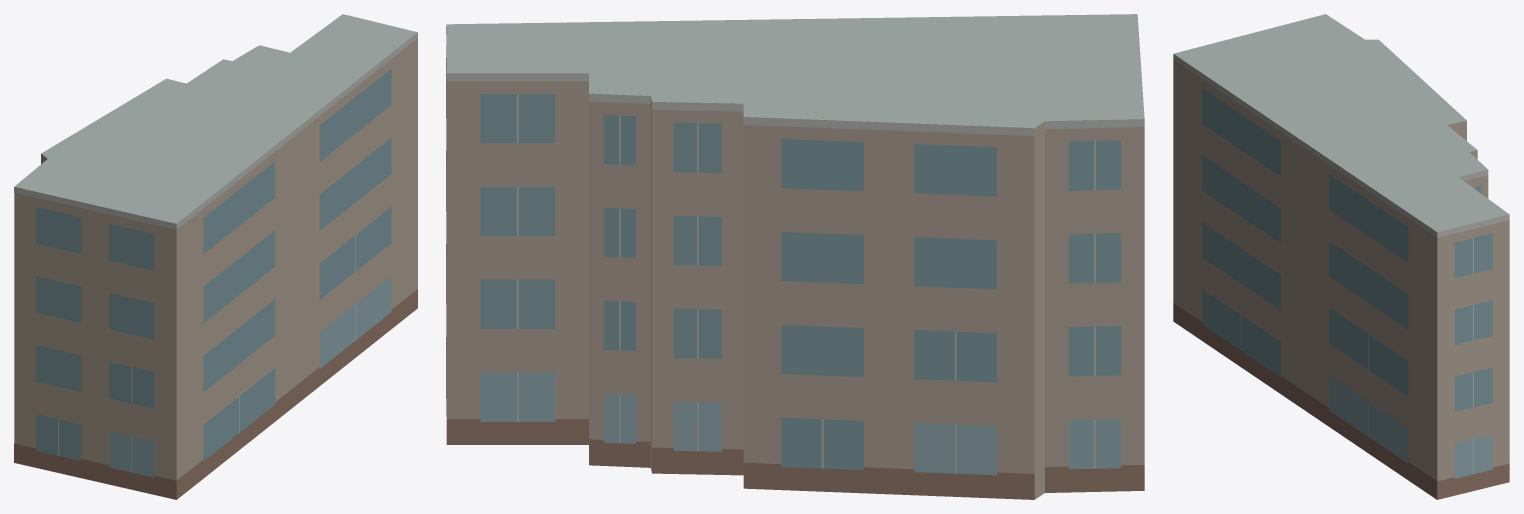
File: survey-upis-32621718.glb
The picture shows the model from 3 angles, left to right: view 1: azimuth 30°, elevation 25°; view 2: azimuth 150°, elevation 25°; view 3: azimuth 270°, elevation 25°; orthographic projection. The views are drawn at different scales.
Visible parts, largest first — view 1: survey-upis-32621718.tmp; view 2: survey-upis-32621718.tmp; view 3: survey-upis-32621718.tmp.
Part boxes in pixels (x1,y1,x2,y2): survey-upis-32621718.tmp: (14,14,417,499); survey-upis-32621718.tmp: (446,14,1144,499); survey-upis-32621718.tmp: (1173,14,1509,499).
Bounding box in the file's own units: 20.12 × 11.5 × 13.11.
